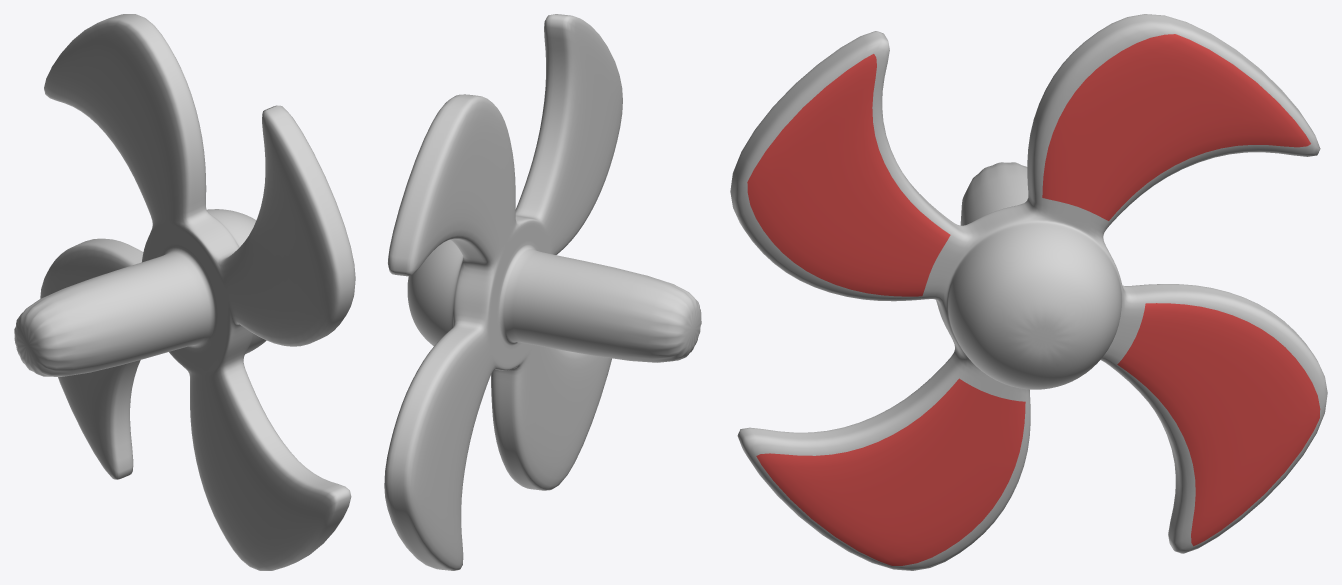
File: fan.fbx
The picture shows the model from 3 angles, left to right: view 1: azimuth 30°, elevation 25°; view 2: azimuth 150°, elevation 25°; view 3: azimuth 270°, elevation 25°; orthographic projection. The views are drawn at different scales.
Parts seen in each view (by area): view 1: Circle; view 2: Circle; view 3: Circle.
Part boxes in pixels (<box>): Circle: <box>14,14,355,570</box>; Circle: <box>384,14,701,570</box>; Circle: <box>730,14,1327,570</box>.
Bounding box in the file's own units: 110 × 186 × 187.
